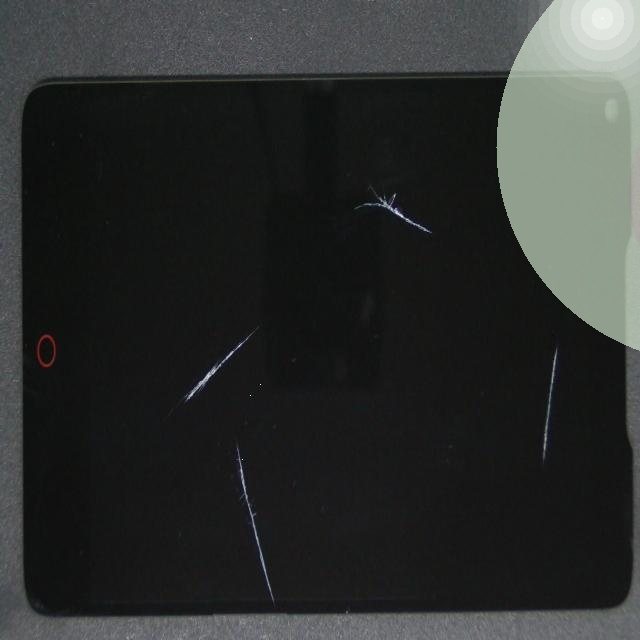scratch: (267, 246, 640, 640), (136, 202, 349, 640), (175, 82, 521, 305), (83, 189, 260, 613)
